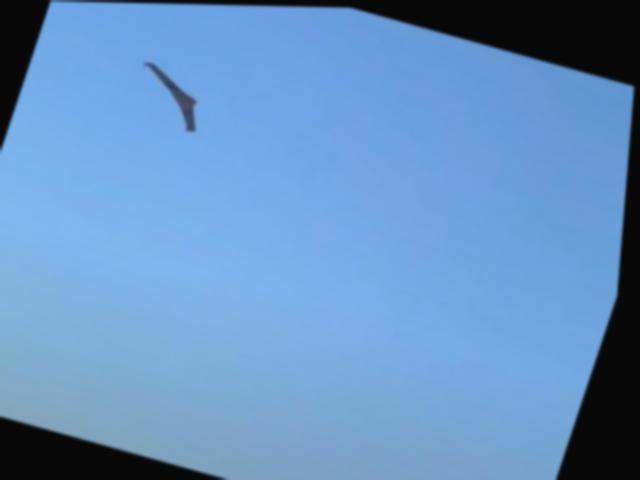iha: (120, 53, 218, 138)
